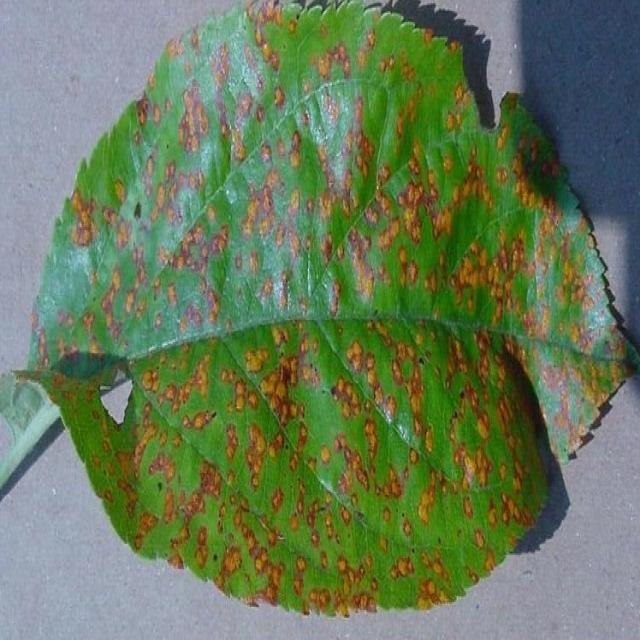Gymnosporangium_Rusts: (16, 0, 636, 621)
